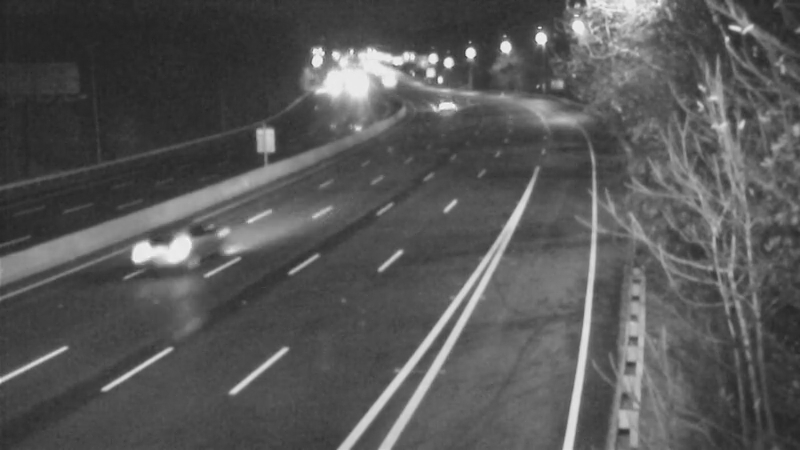vehicle: (118, 209, 198, 289), (422, 85, 472, 135)
